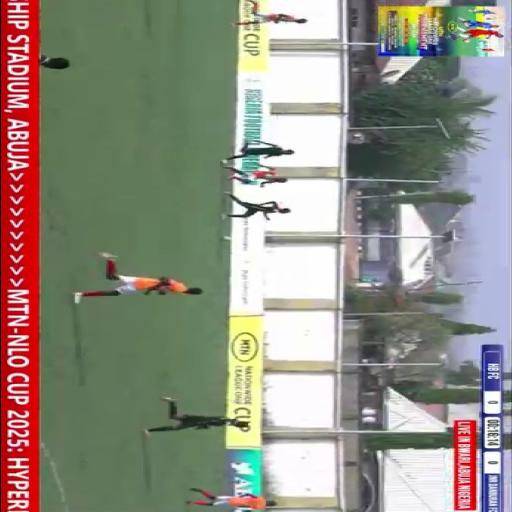ball: (219, 233, 237, 244)
team1: (68, 256, 206, 308), (178, 483, 285, 512), (224, 1, 308, 31), (216, 168, 298, 186)
team2: (128, 396, 262, 446), (215, 196, 301, 224), (220, 138, 306, 164)
